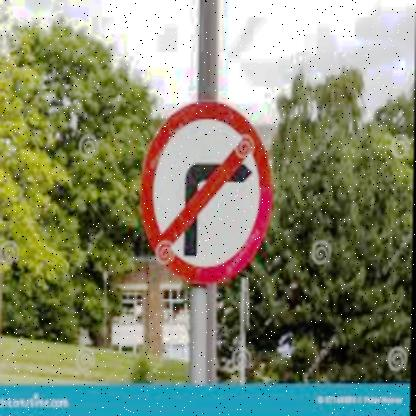No right turn: (138, 94, 273, 288)
